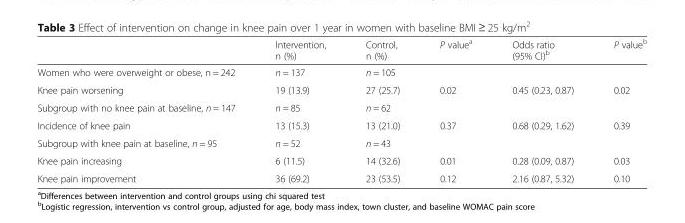table: (36, 36, 646, 183)
table column: (36, 36, 254, 183), (491, 36, 592, 183), (254, 36, 345, 183), (345, 36, 419, 183), (419, 36, 491, 183), (592, 36, 646, 183)
table column header: (36, 36, 646, 63)
table row: (36, 36, 646, 63), (36, 80, 646, 98), (36, 98, 646, 116), (36, 133, 646, 151), (36, 151, 646, 169), (36, 63, 646, 80), (36, 116, 646, 133), (36, 169, 646, 183)
